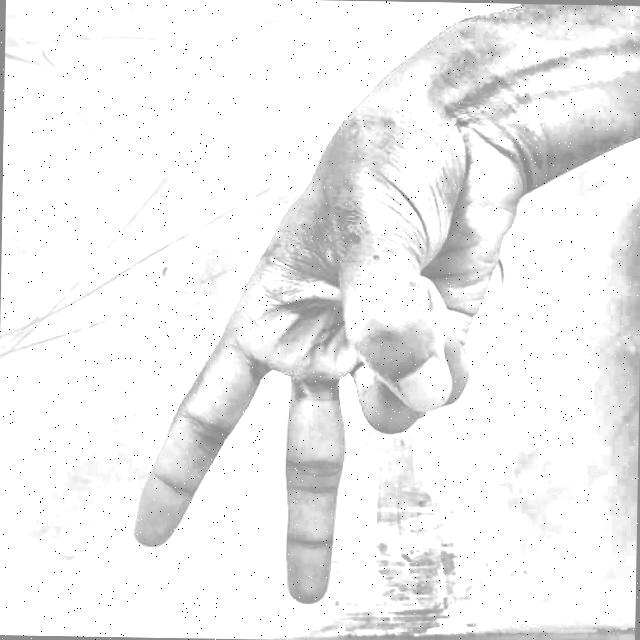Pa: (108, 56, 540, 632)
